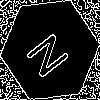N: (25, 25, 78, 81)
